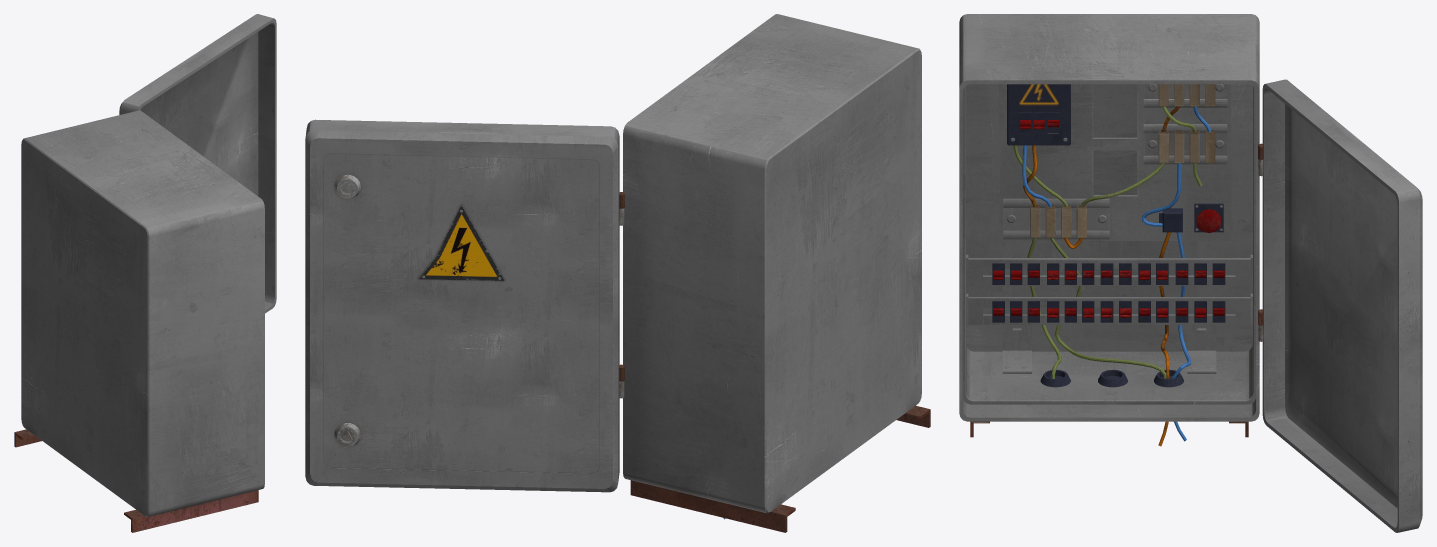
File: fuse_box.fbx
3 views of the same model, side by side, from view 1: azimuth 30°, elevation 25°; view 2: azimuth 150°, elevation 25°; view 3: azimuth 270°, elevation 25° (orthographic). The views are drawn at different scales.
Visible parts, largest first — view 1: defaultMaterial.001, defaultMaterial; view 2: defaultMaterial.001, defaultMaterial; view 3: defaultMaterial.001, defaultMaterial.
Boxes of the visible parts, x1,y1,x2,y2 form: defaultMaterial.001: (14,110,264,532); defaultMaterial: (119,14,276,313); defaultMaterial.001: (623,14,930,532); defaultMaterial: (305,119,624,492); defaultMaterial.001: (959,14,1259,446); defaultMaterial: (1258,79,1422,532).
Bounding box in the file's own units: 5768 × 5690 × 6026.
